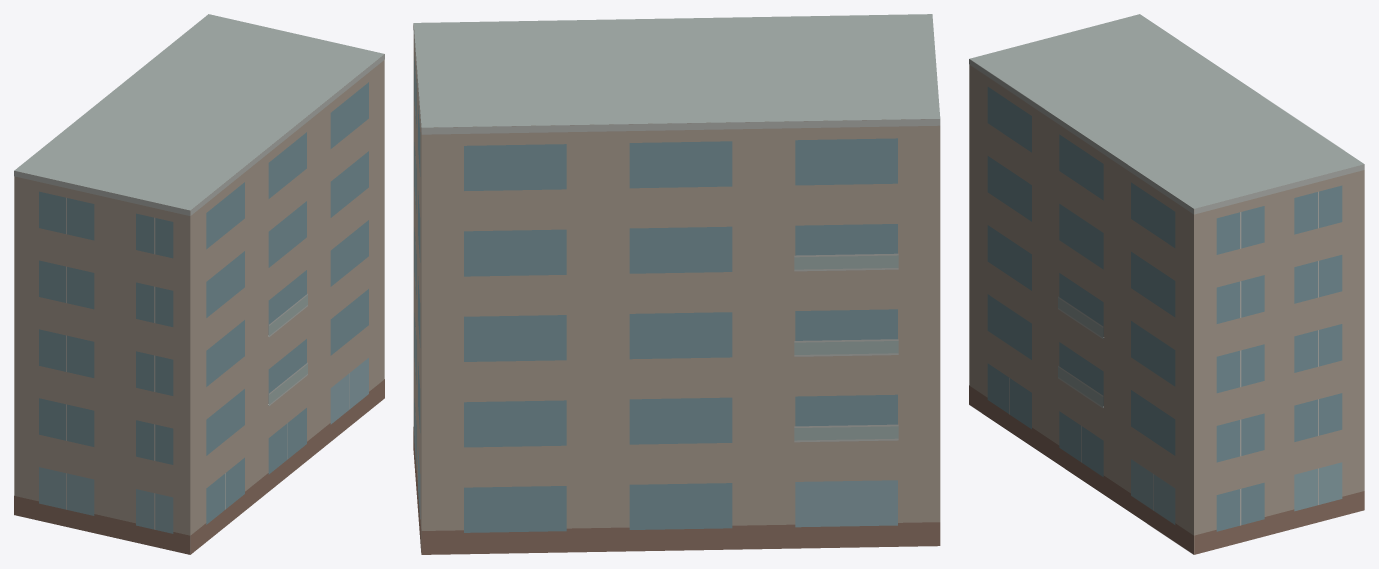
The model's file is survey-upis-32758167.glb.
The picture shows the model from 3 angles, left to right: view 1: azimuth 30°, elevation 25°; view 2: azimuth 150°, elevation 25°; view 3: azimuth 270°, elevation 25°; orthographic projection. The views are drawn at different scales.
Parts seen in each view (by area): view 1: survey-upis-32758167.tmp; view 2: survey-upis-32758167.tmp; view 3: survey-upis-32758167.tmp.
Boxes of the visible parts, <box> form: survey-upis-32758167.tmp: <box>14,14,384,554</box>; survey-upis-32758167.tmp: <box>413,14,940,554</box>; survey-upis-32758167.tmp: <box>969,14,1364,554</box>.
Size of the model in its own units: 18.01 by 14.9 by 15.45.
